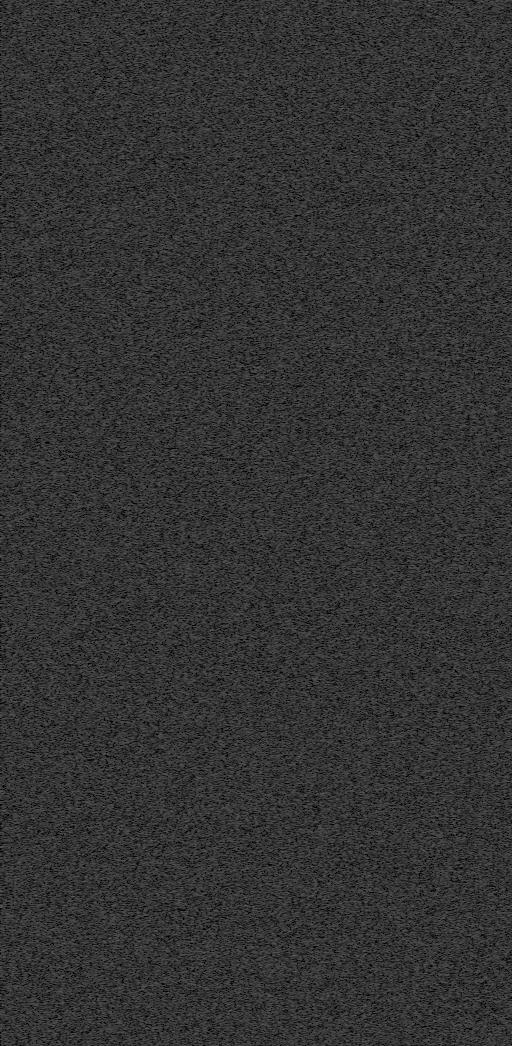wv_am: (23, 0, 28, 1045)
wv_lsb: (446, 438, 451, 752), (446, 217, 451, 437), (446, 905, 451, 1023), (446, 764, 451, 840), (446, 144, 451, 216), (446, 841, 451, 904), (446, 17, 451, 74), (99, 469, 103, 539), (99, 599, 103, 639), (99, 737, 103, 770), (99, 771, 103, 802), (99, 870, 103, 900), (99, 640, 103, 670), (99, 569, 103, 598), (446, 120, 451, 143), (446, 75, 451, 96), (99, 432, 103, 454), (99, 671, 103, 691), (99, 965, 103, 985), (446, 1030, 451, 1045), (99, 803, 103, 820), (99, 25, 103, 41), (446, 97, 451, 109), (99, 363, 103, 378), (99, 347, 103, 362), (99, 331, 103, 346), (99, 1027, 103, 1040), (99, 455, 103, 468), (99, 81, 103, 94), (446, 753, 451, 763), (99, 909, 103, 921), (99, 996, 103, 1008), (446, 110, 451, 119), (99, 1015, 103, 1026), (99, 692, 103, 702), (99, 416, 103, 426), (99, 400, 103, 410), (99, 384, 103, 394), (99, 315, 103, 325), (99, 283, 103, 293), (99, 60, 103, 70), (99, 934, 103, 944), (99, 844, 103, 853), (99, 986, 103, 995), (99, 262, 103, 271), (99, 955, 103, 964), (99, 945, 103, 954), (99, 723, 103, 731), (99, 713, 103, 721), (99, 558, 103, 566), (99, 107, 103, 115), (99, 71, 103, 79), (99, 824, 103, 831), (99, 17, 103, 24), (446, 11, 451, 16), (99, 837, 103, 843), (99, 42, 103, 48), (99, 540, 103, 545), (99, 304, 103, 309), (99, 251, 103, 256), (99, 929, 103, 933), (99, 904, 103, 908), (99, 865, 103, 869), (99, 860, 103, 864), (99, 832, 103, 836), (99, 553, 103, 557), (99, 548, 103, 552), (99, 427, 103, 431), (99, 411, 103, 415), (99, 395, 103, 399), (99, 379, 103, 383), (99, 326, 103, 330), (99, 310, 103, 314), (99, 294, 103, 298), (99, 257, 103, 261), (99, 129, 103, 133), (99, 54, 103, 58), (99, 925, 103, 928), (99, 272, 103, 275), (99, 235, 103, 238), (99, 230, 103, 233), (99, 219, 103, 222), (99, 214, 103, 217), (99, 209, 103, 212), (99, 203, 103, 206), (99, 198, 103, 201), (99, 193, 103, 196), (99, 187, 103, 190), (99, 182, 103, 185), (99, 171, 103, 174), (99, 166, 103, 169), (99, 161, 103, 164), (99, 155, 103, 158), (99, 150, 103, 153), (99, 145, 103, 148), (99, 134, 103, 137), (99, 124, 103, 127), (99, 118, 103, 121), (99, 103, 103, 106), (99, 97, 103, 100), (99, 50, 103, 53), (99, 13, 103, 16)
wv_wbfm: (356, 824, 402, 1045), (371, 0, 383, 822), (53, 0, 61, 1045), (363, 0, 372, 760), (363, 768, 372, 1045)
